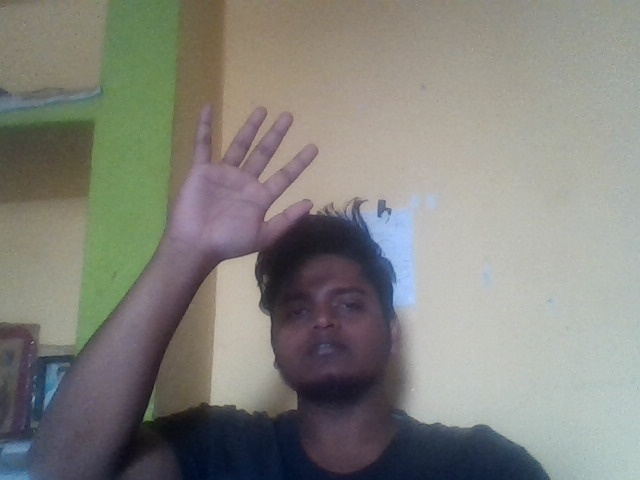Hello: (157, 71, 324, 261)
